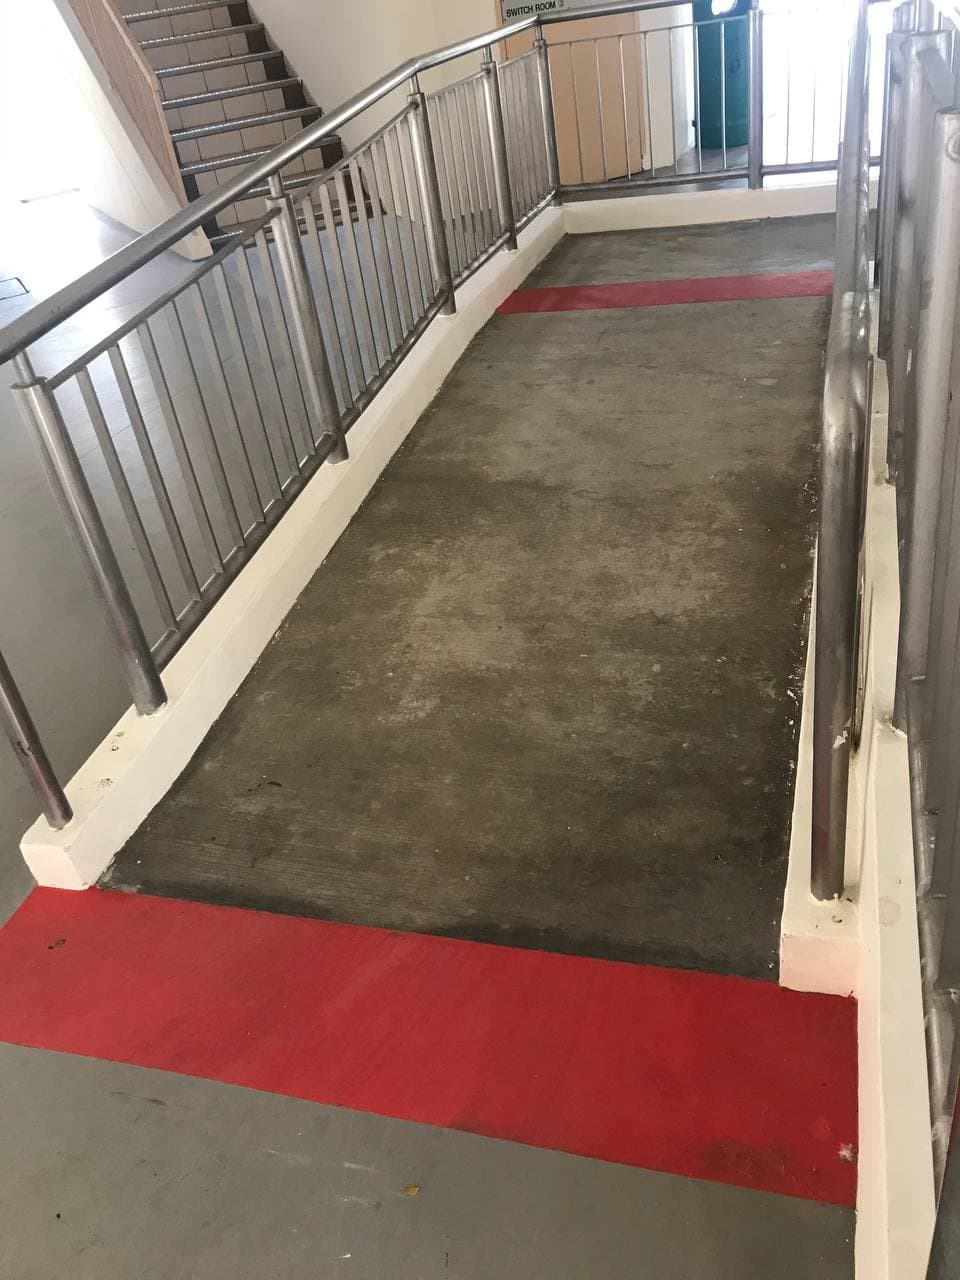slopes: (4, 31, 893, 1222)
